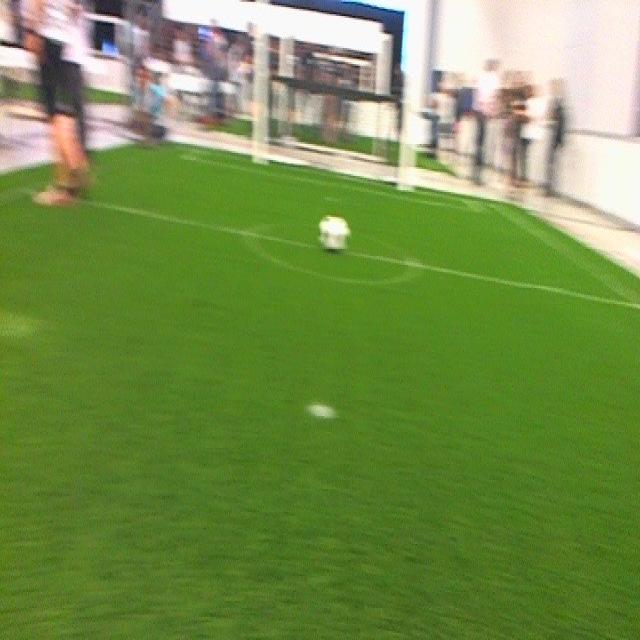ball: (317, 213, 351, 256)
goalpost: (396, 2, 423, 192), (251, 2, 265, 156)
